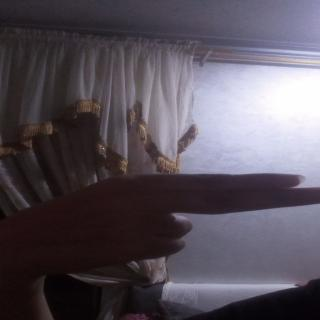AYN: (9, 162, 320, 271)
